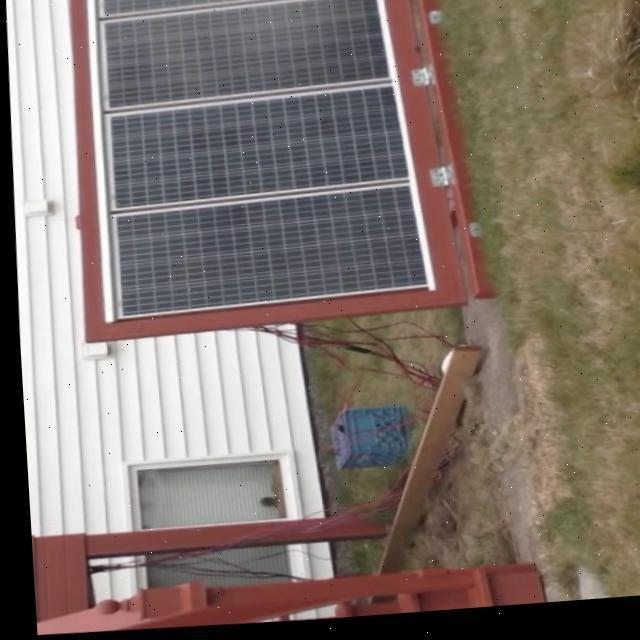Normal Solar Panel: (89, 0, 430, 323), (113, 184, 422, 320)
